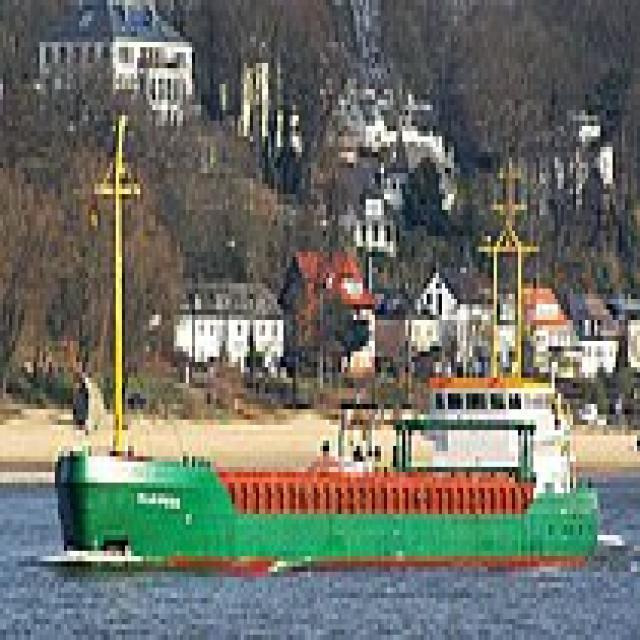Ship: (41, 132, 608, 594)
